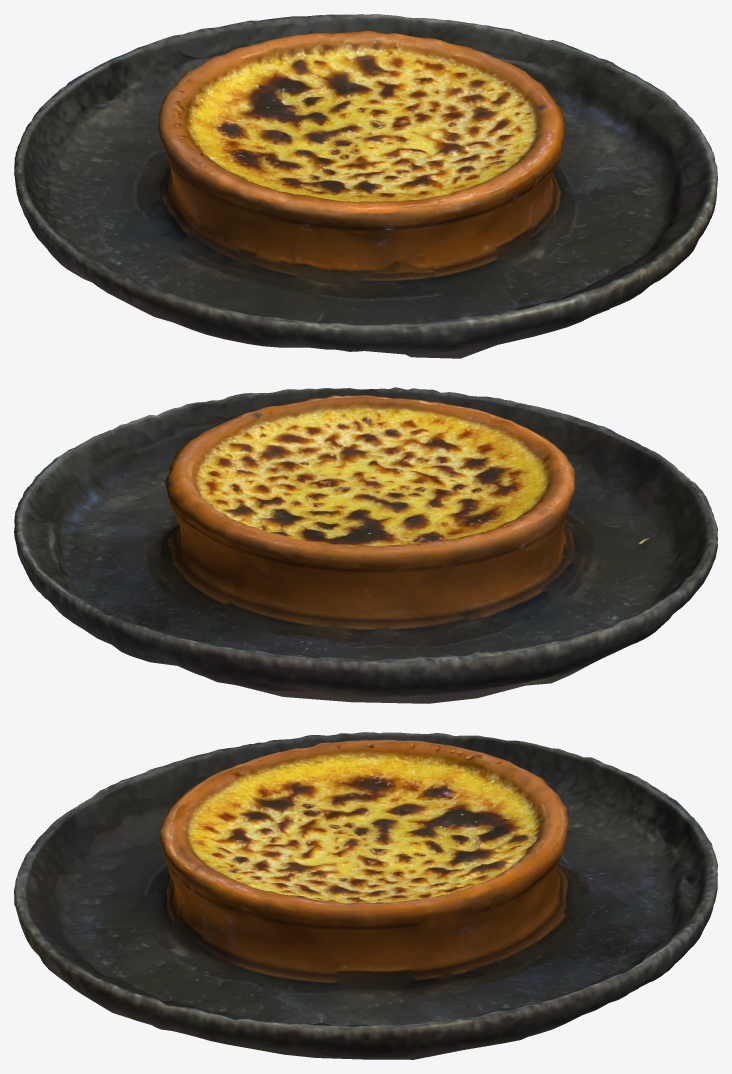
The model's file is creme-brulee.ar.glb.
The picture shows the model from 3 angles, top to bottom: view 1: azimuth 30°, elevation 25°; view 2: azimuth 150°, elevation 25°; view 3: azimuth 270°, elevation 25°; orthographic projection.
Parts seen in each view (by area): view 1: /ObjectCapture/Geometry/Mesh; view 2: /ObjectCapture/Geometry/Mesh; view 3: /ObjectCapture/Geometry/Mesh.
Boxes of the visible parts, <box> form: /ObjectCapture/Geometry/Mesh: <box>14,14,717,358</box>; /ObjectCapture/Geometry/Mesh: <box>14,387,717,703</box>; /ObjectCapture/Geometry/Mesh: <box>14,732,717,1059</box>.
Bounding box in the file's own units: 0.212 × 0.0555 × 0.2121.
Materials: 1 (1 with a texture image).
